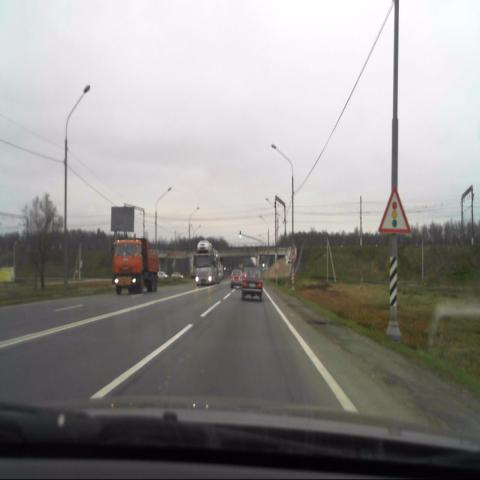1_8: (379, 186, 411, 234)
